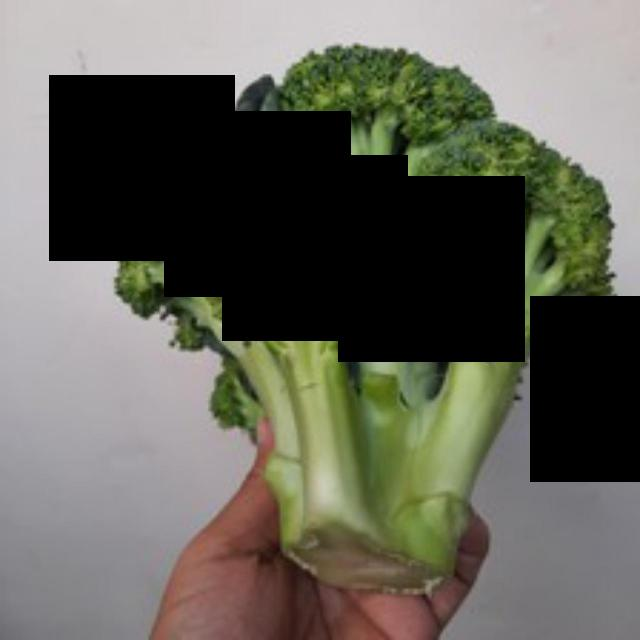broccoli: (88, 40, 624, 597)
